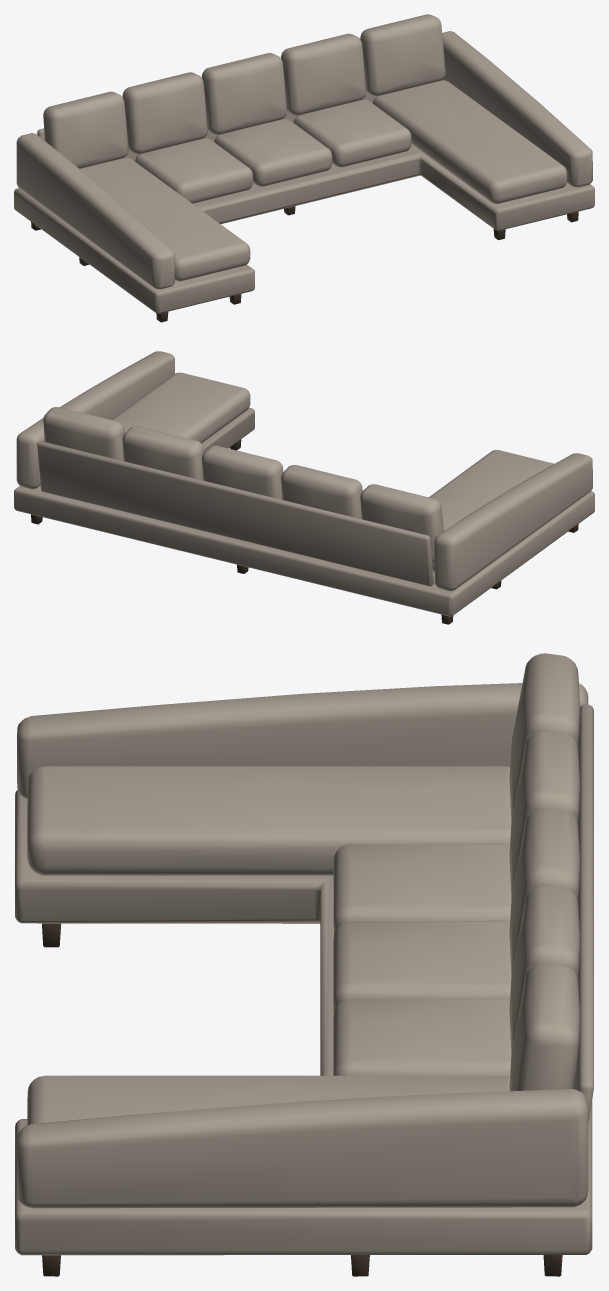
File: sofa-u-shaped.glb
3 renders of one model, top to bottom at view 1: azimuth 30°, elevation 25°; view 2: azimuth 150°, elevation 25°; view 3: azimuth 270°, elevation 25°, orthographic. The views are drawn at different scales.
Parts seen in each view (by area): view 1: EQ_Mobile_sofa-u-shaped_Upholstery, EQ_Mobile_sofa-u-shaped_OakStructure; view 2: EQ_Mobile_sofa-u-shaped_Upholstery, EQ_Mobile_sofa-u-shaped_OakStructure; view 3: EQ_Mobile_sofa-u-shaped_Upholstery, EQ_Mobile_sofa-u-shaped_OakStructure.
Boxes of the visible parts, left/top/right/bottom form: EQ_Mobile_sofa-u-shaped_Upholstery: left=14, top=14, right=594, bottom=313; EQ_Mobile_sofa-u-shaped_OakStructure: left=31, top=206, right=578, bottom=322; EQ_Mobile_sofa-u-shaped_Upholstery: left=14, top=351, right=594, bottom=616; EQ_Mobile_sofa-u-shaped_OakStructure: left=31, top=439, right=578, bottom=624; EQ_Mobile_sofa-u-shaped_Upholstery: left=15, top=653, right=593, bottom=1255; EQ_Mobile_sofa-u-shaped_OakStructure: left=42, top=923, right=562, bottom=1276.
Bounding box in the file's own units: 3.59 × 0.916 × 2.04.
